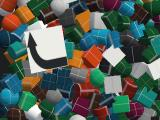Right: (24, 25, 68, 73)
